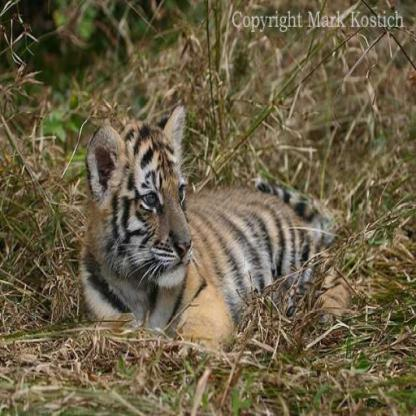Tiger: (75, 110, 353, 353)
